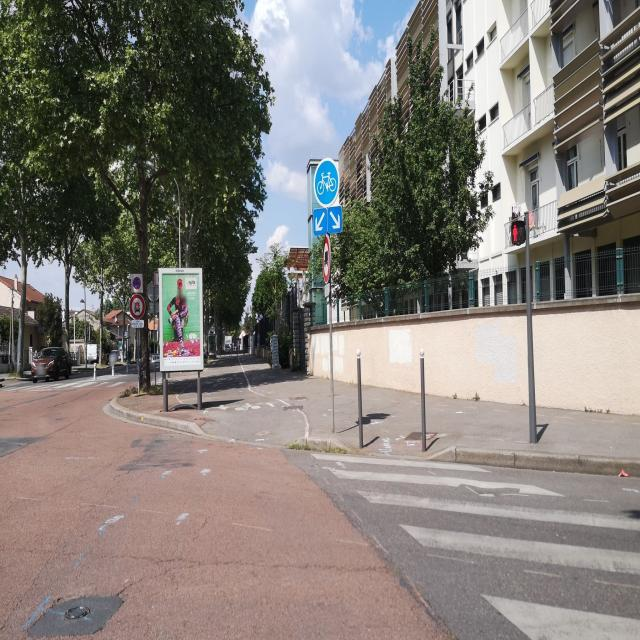forb_stopping: (132, 277, 140, 287)
